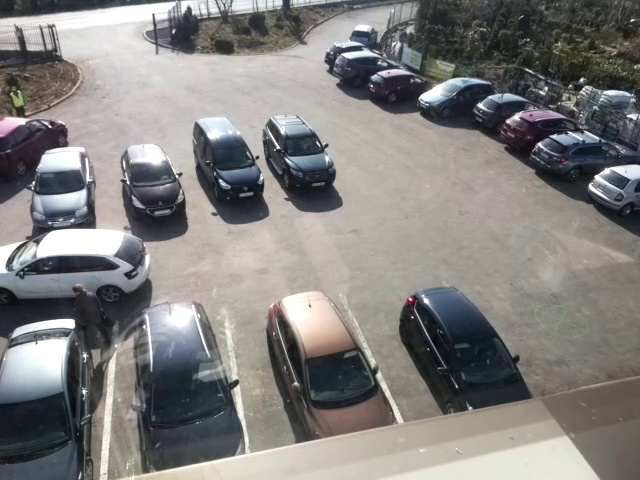car: (133, 301, 249, 474), (266, 289, 393, 443), (397, 286, 531, 414), (1, 317, 94, 480), (1, 230, 151, 302), (191, 116, 266, 203), (263, 114, 337, 193), (527, 128, 635, 181), (30, 146, 96, 231), (121, 144, 185, 219), (1, 114, 70, 180), (501, 111, 592, 152), (416, 78, 497, 118), (470, 94, 554, 132), (586, 163, 640, 214), (329, 51, 412, 84), (368, 70, 433, 102), (324, 40, 386, 72), (348, 24, 381, 48)
